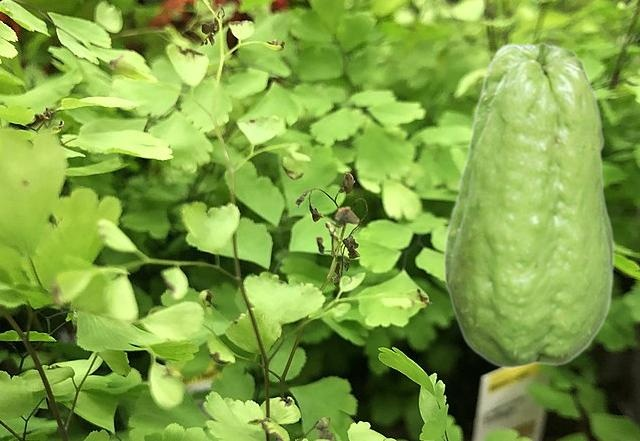sayote: (442, 41, 615, 369)
